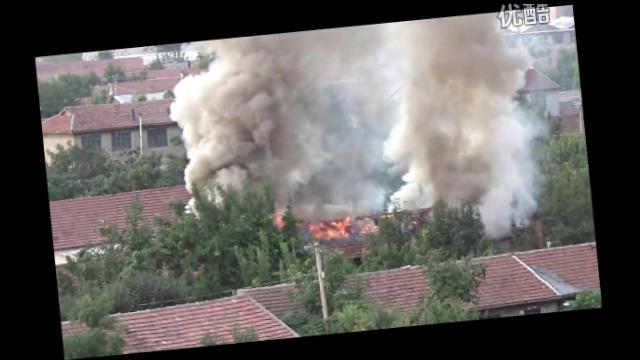fire: (309, 216, 349, 240)
